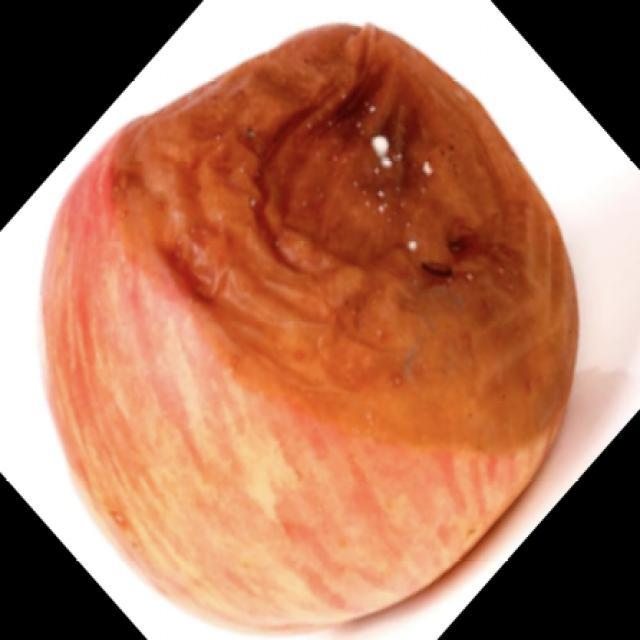Rotten: (60, 38, 573, 640)
